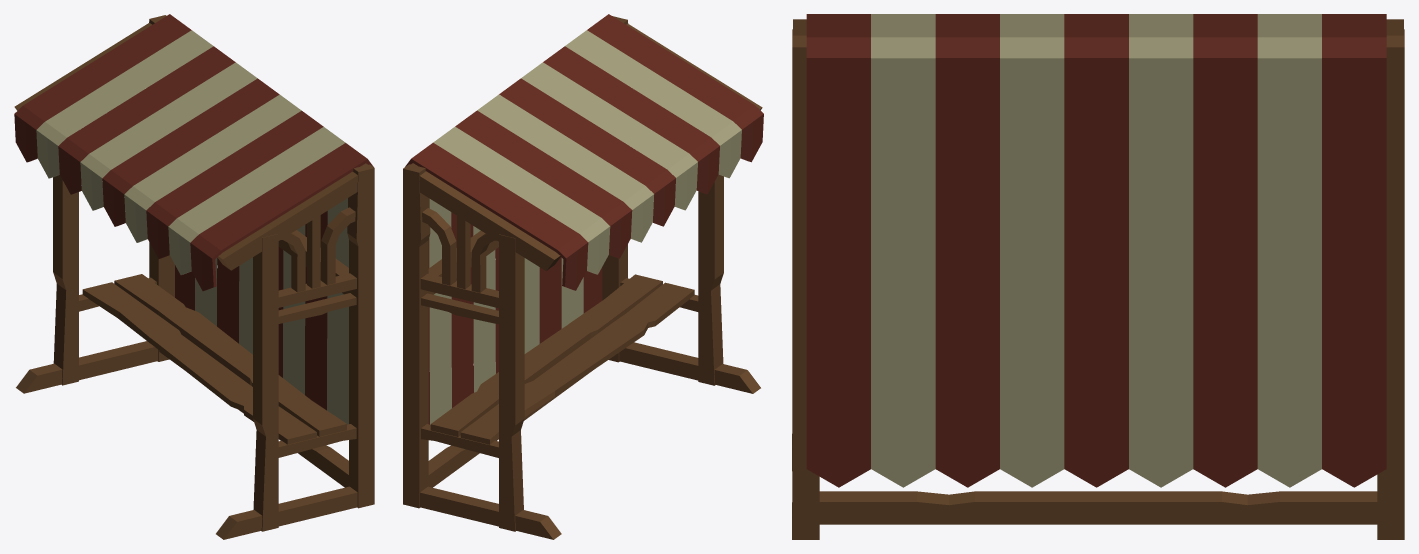
Rendered from market-stand.glb.
3 renders of one model, left to right at view 1: azimuth 30°, elevation 25°; view 2: azimuth 150°, elevation 25°; view 3: azimuth 270°, elevation 25°, orthographic. The views are drawn at different scales.
Visible parts, largest first — view 1: MarketStand_2; view 2: MarketStand_2; view 3: MarketStand_2.
Boxes of the visible parts, x1,y1,x2,y2 form: MarketStand_2: [14, 14, 374, 539]; MarketStand_2: [403, 14, 763, 539]; MarketStand_2: [792, 14, 1404, 539].
Size of the model in its own units: 0.5172 by 1.04 by 1.15.
